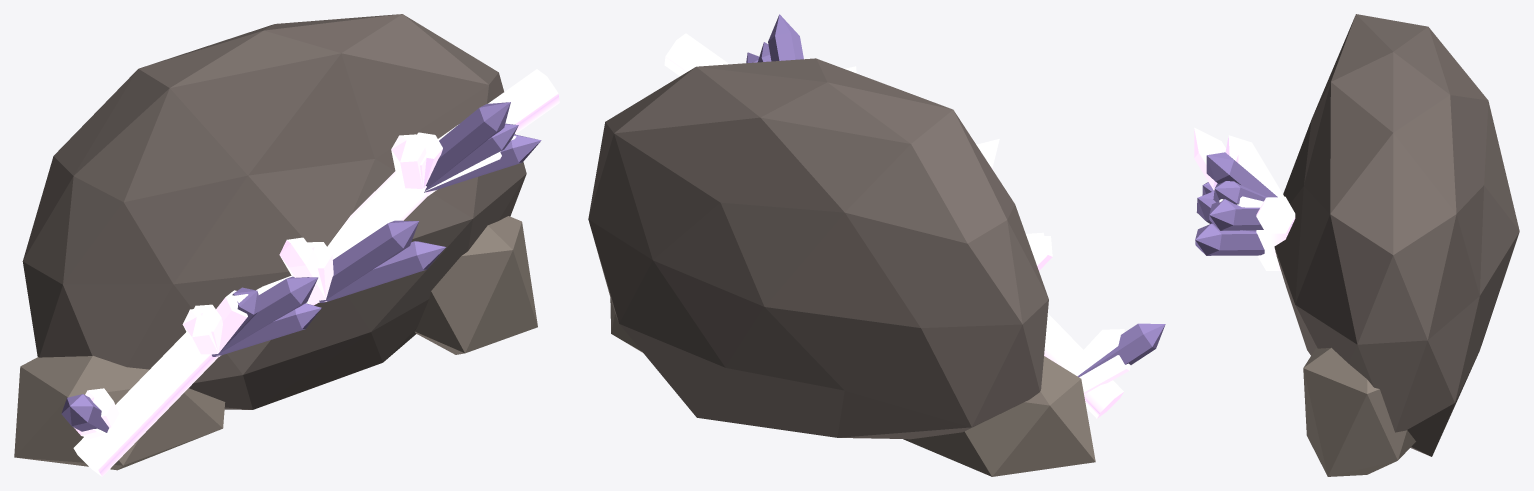
File: bg_crystal_vein.glb
The picture shows the model from 3 angles, left to right: view 1: azimuth 30°, elevation 25°; view 2: azimuth 150°, elevation 25°; view 3: azimuth 270°, elevation 25°; orthographic projection. The views are drawn at different scales.
Parts seen in each view (by area): view 1: bg_crystal_vein; view 2: bg_crystal_vein; view 3: bg_crystal_vein.
Boxes of the visible parts, bbox=[...] form: bg_crystal_vein: bbox=[14, 14, 559, 476]; bg_crystal_vein: bbox=[588, 14, 1165, 476]; bg_crystal_vein: bbox=[1194, 14, 1519, 476].
Size of the model in its own units: 1.75 by 1.25 by 0.9985.
